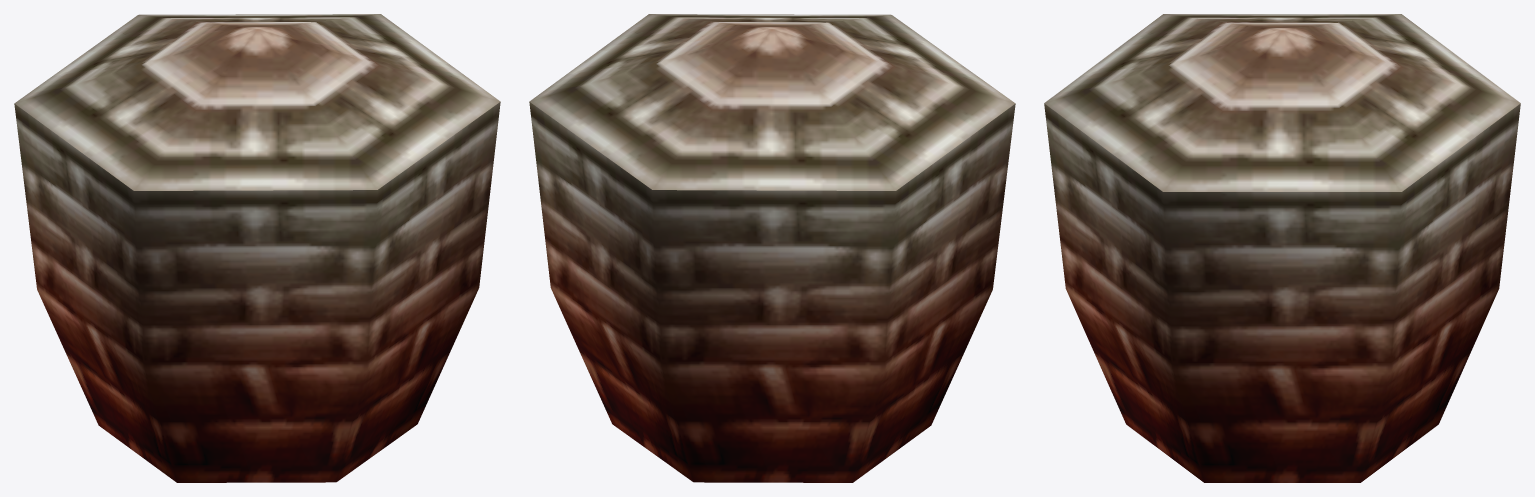
The model's file is wc_basket01.obj.
3 renders of one model, left to right at view 1: azimuth 30°, elevation 25°; view 2: azimuth 150°, elevation 25°; view 3: azimuth 270°, elevation 25°, orthographic.
Parts seen in each view (by area): view 1: wc_basket01; view 2: wc_basket01; view 3: wc_basket01.
Part boxes in pixels (bbox=[...]): wc_basket01: bbox=[14, 14, 500, 482]; wc_basket01: bbox=[529, 14, 1015, 482]; wc_basket01: bbox=[1044, 14, 1520, 482].
Size of the model in its own units: 0.4991 by 0.5153 by 0.5644.
1 material, 1 textured.
